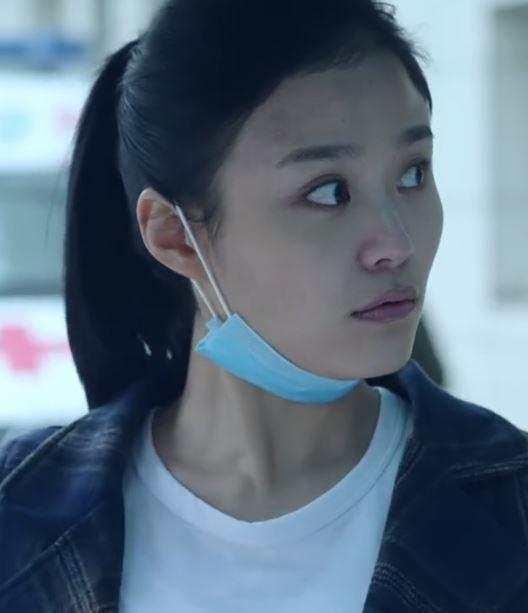WRONG: (240, 97, 444, 390)
